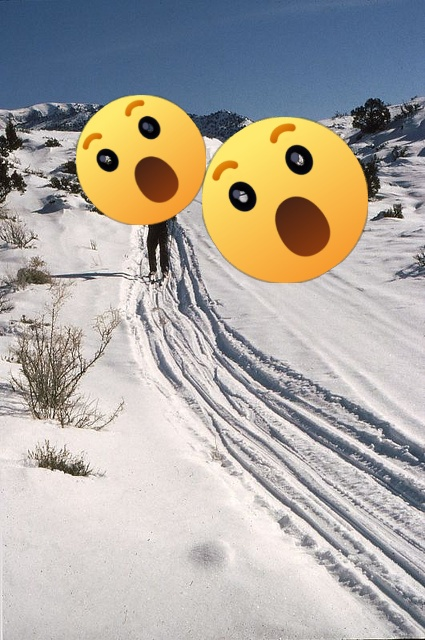wow: (202, 117, 368, 283), (76, 95, 206, 225)
